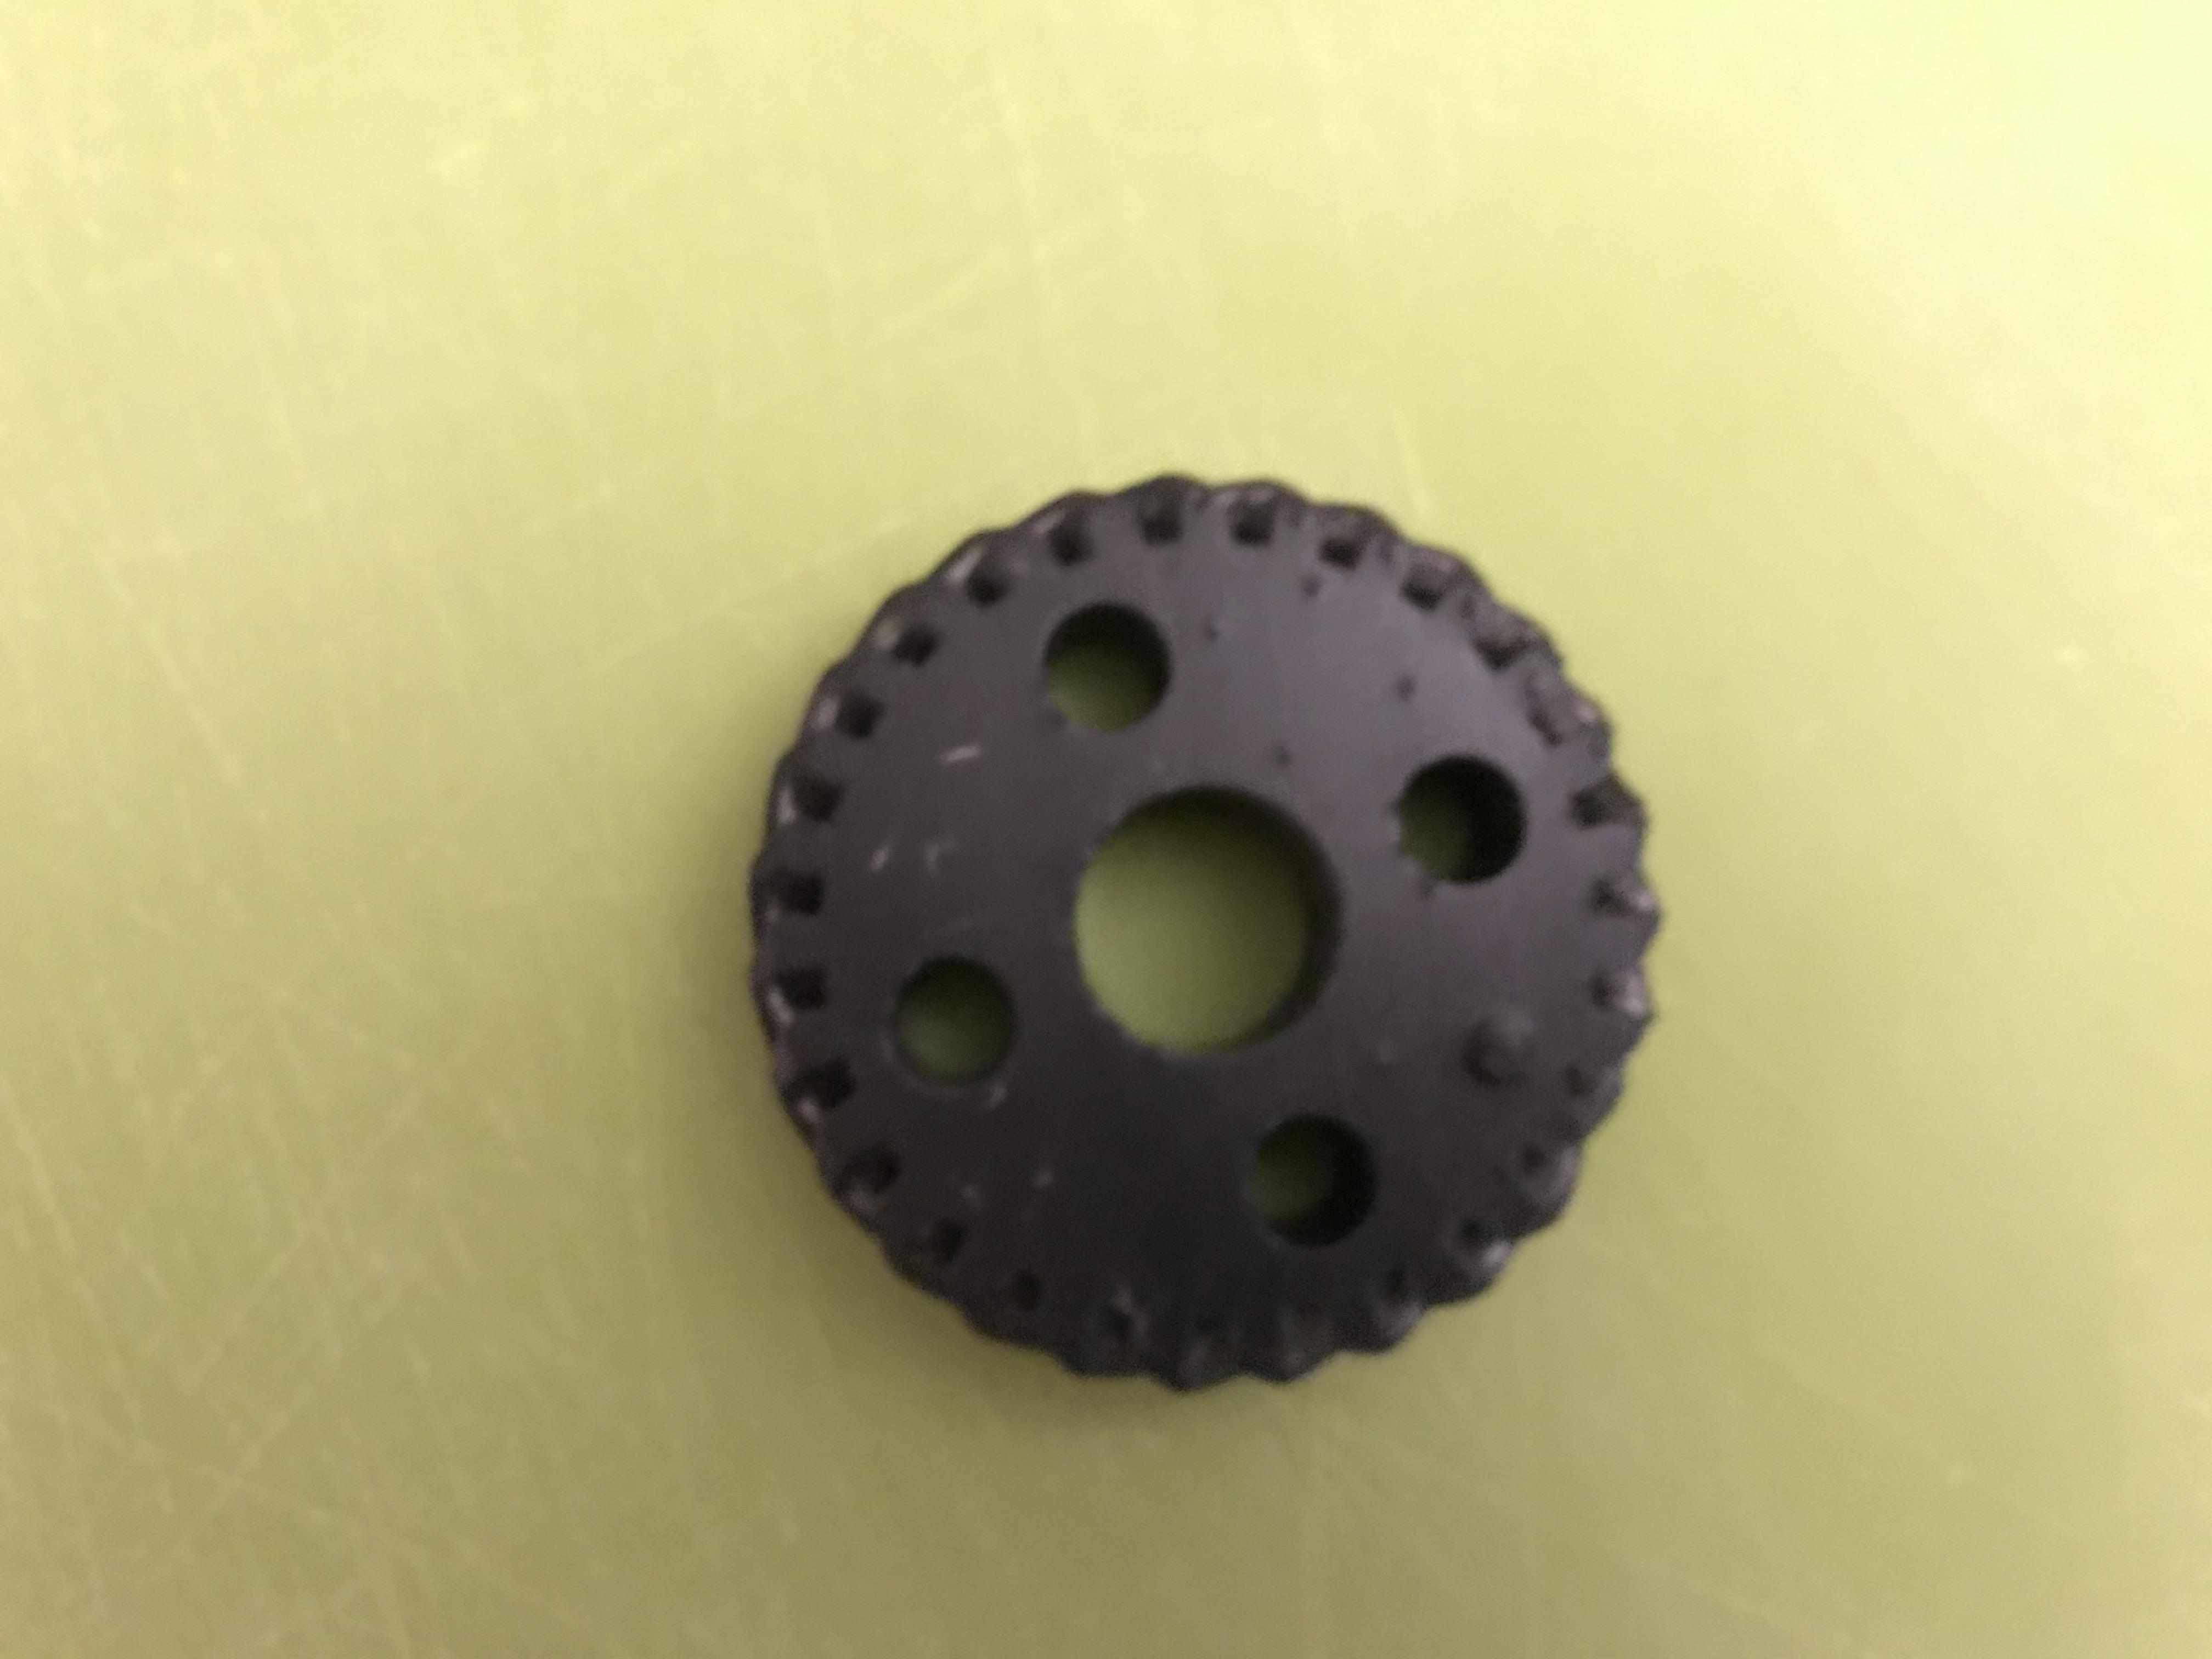Wheel: (732, 472, 1677, 1406)
